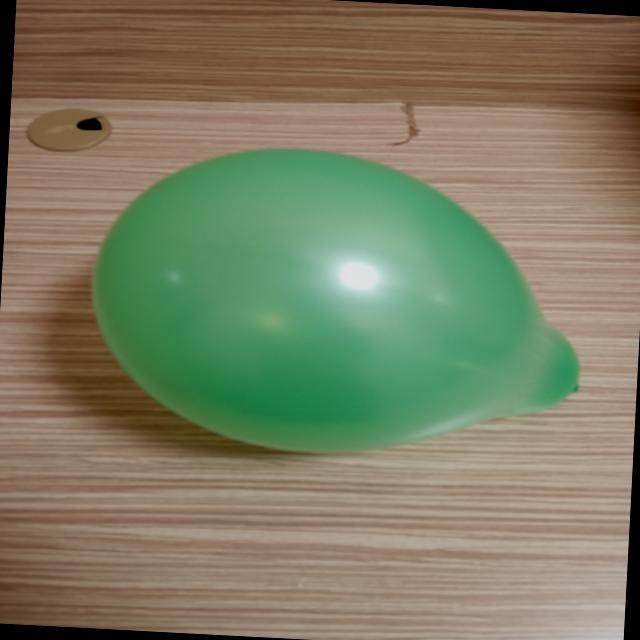balloon: (92, 149, 579, 453)
